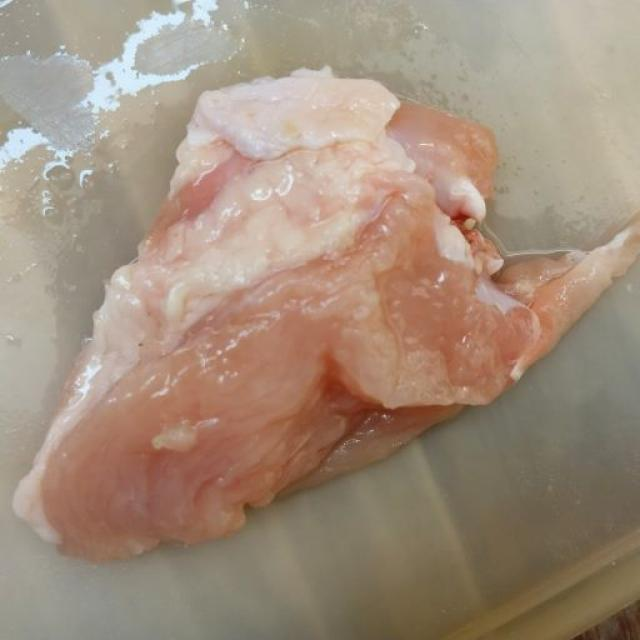chicken: (10, 64, 639, 563)
